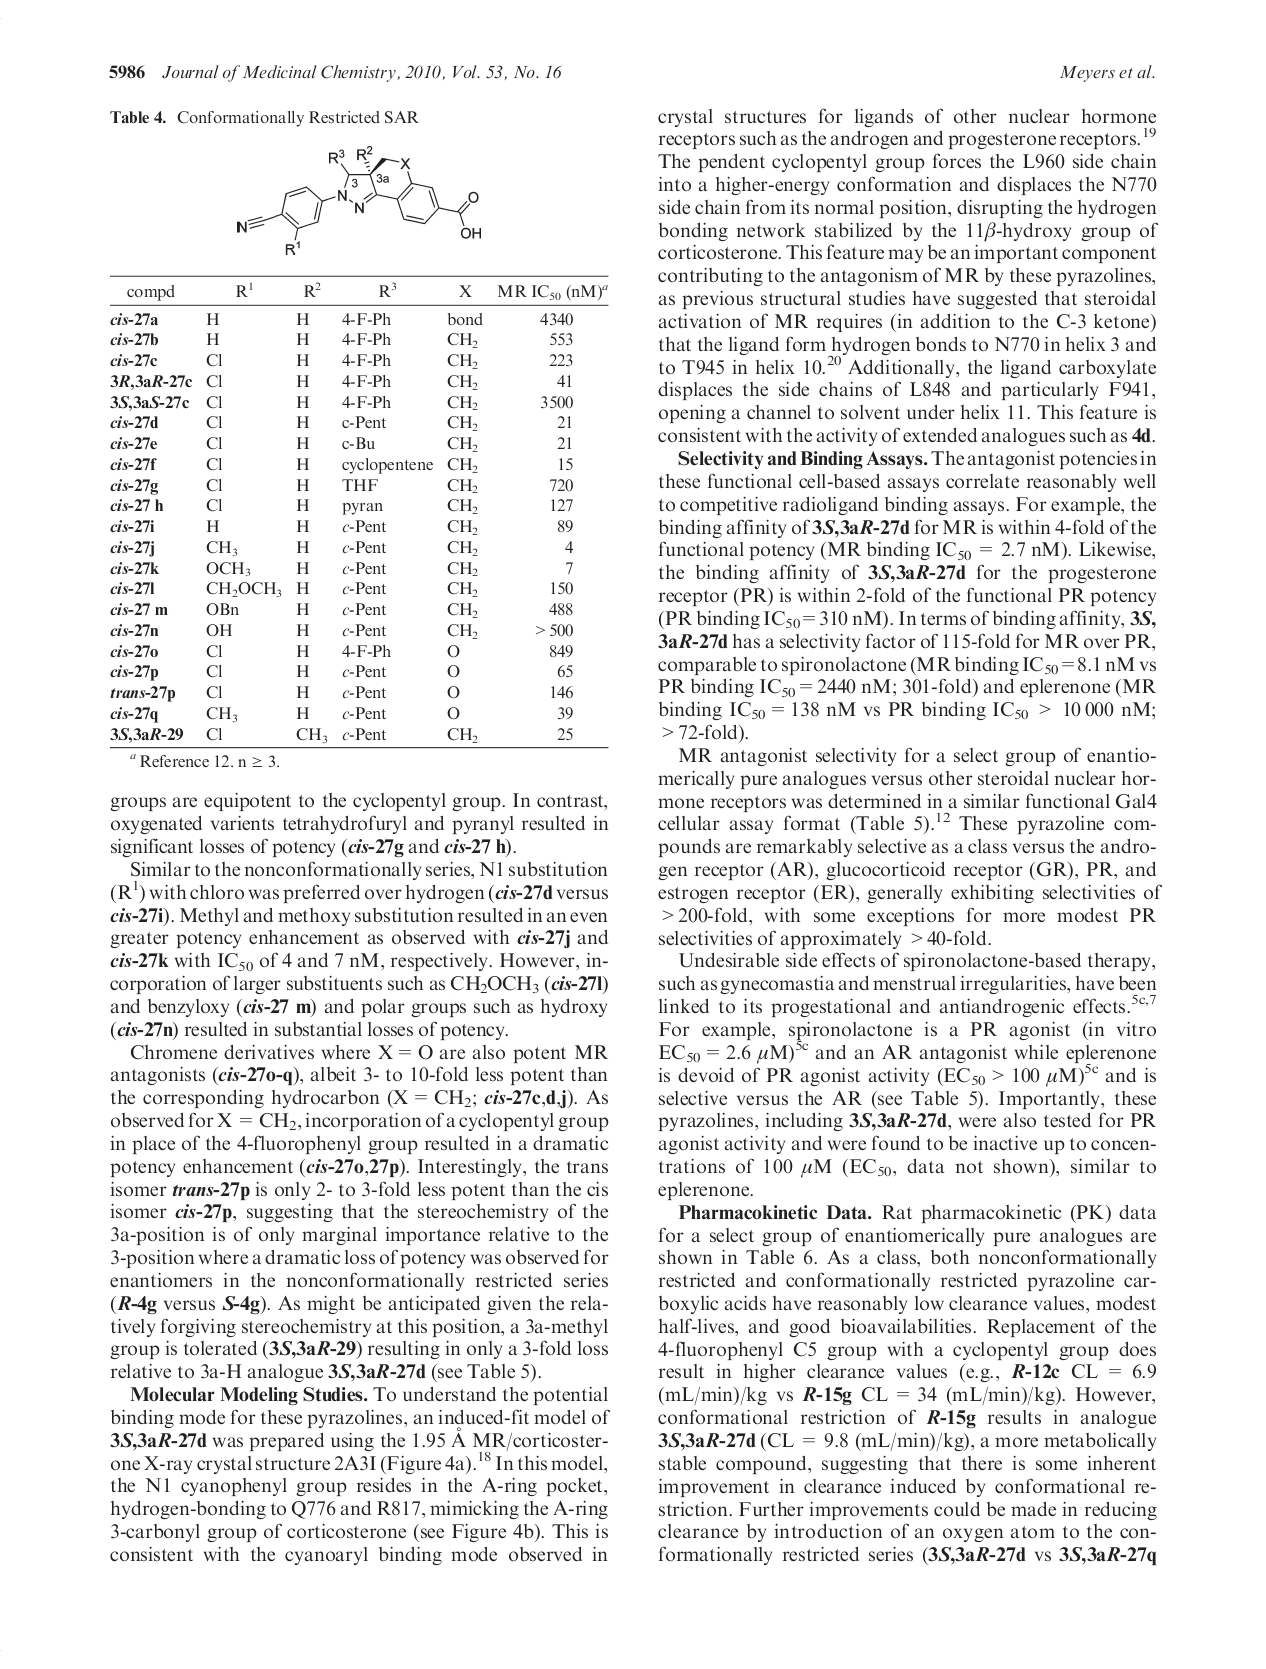exist_molecular: (234, 144, 485, 258)
